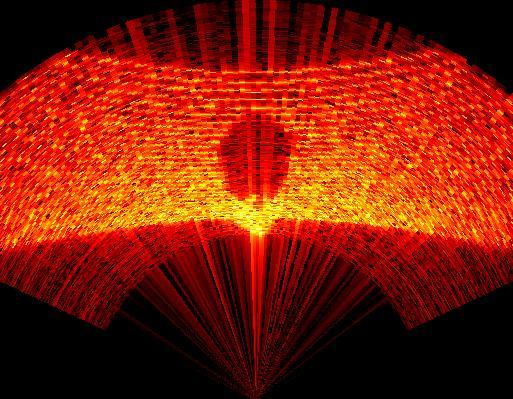box_crate: (218, 112, 294, 208)
